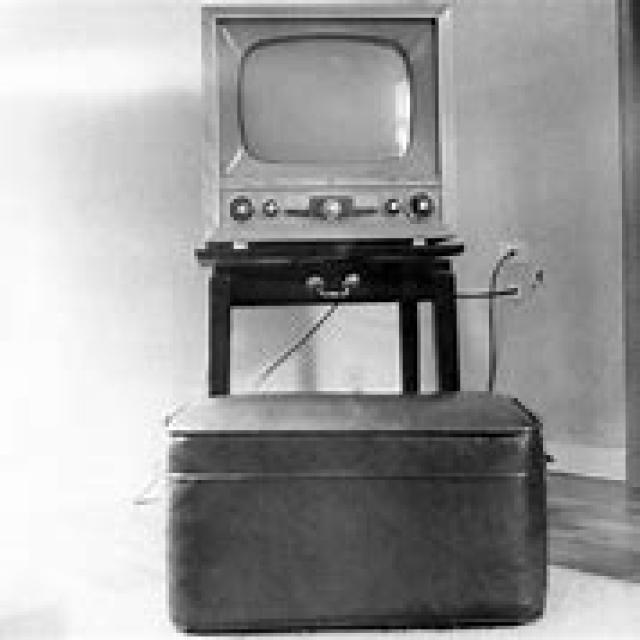tv: (198, 0, 457, 249)
